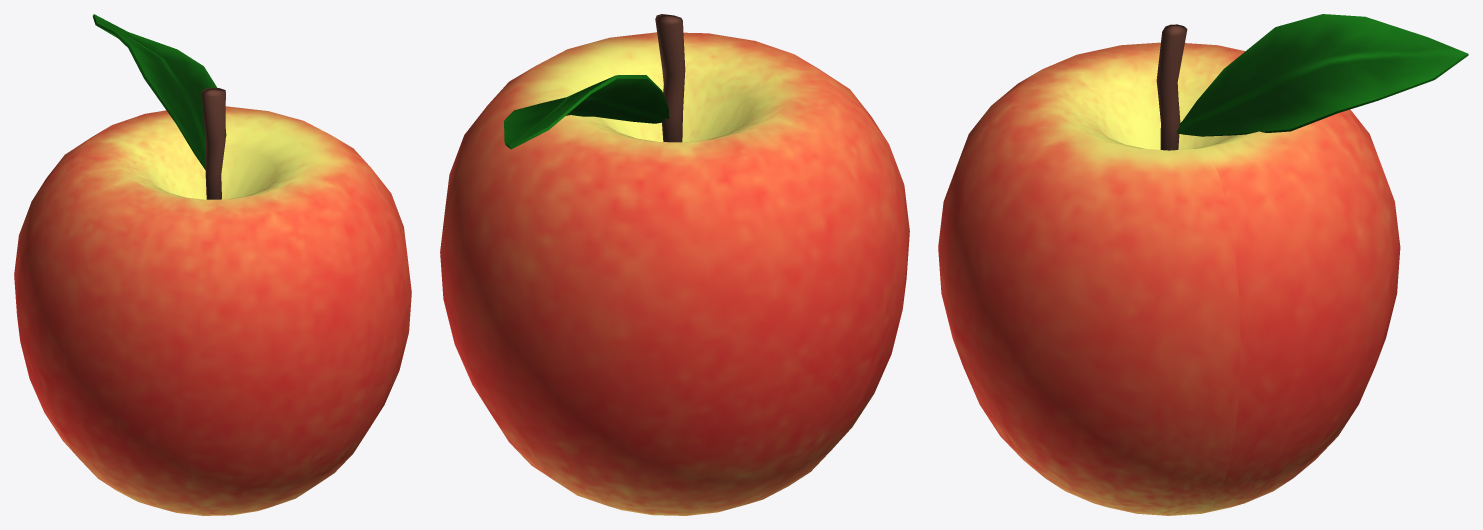
The model's file is ringo_mod.fbx.
3 views of the same model, side by side, from view 1: azimuth 30°, elevation 25°; view 2: azimuth 150°, elevation 25°; view 3: azimuth 270°, elevation 25° (orthographic). The views are drawn at different scales.
Visible parts, largest first — view 1: ringo; view 2: ringo; view 3: ringo.
Part boxes in pixels (left/top/right/bottom): ringo: left=14, top=14, right=411, bottom=515; ringo: left=440, top=14, right=909, bottom=515; ringo: left=938, top=14, right=1468, bottom=515.
Bounding box in the file's own units: 25.17 × 27.24 × 28.9.
